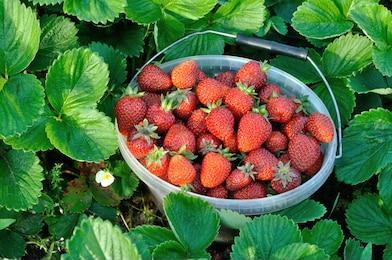Fresa: (234, 107, 274, 155), (285, 130, 324, 177), (111, 92, 149, 139), (198, 145, 235, 191), (245, 145, 282, 183), (203, 102, 236, 143), (303, 108, 339, 145), (233, 59, 270, 94), (136, 62, 174, 94), (125, 122, 156, 161), (166, 87, 201, 121), (267, 163, 304, 195), (165, 152, 198, 187), (170, 58, 200, 92), (223, 163, 253, 193)
